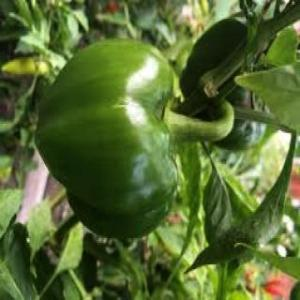bell_pepper: (31, 38, 196, 248)
